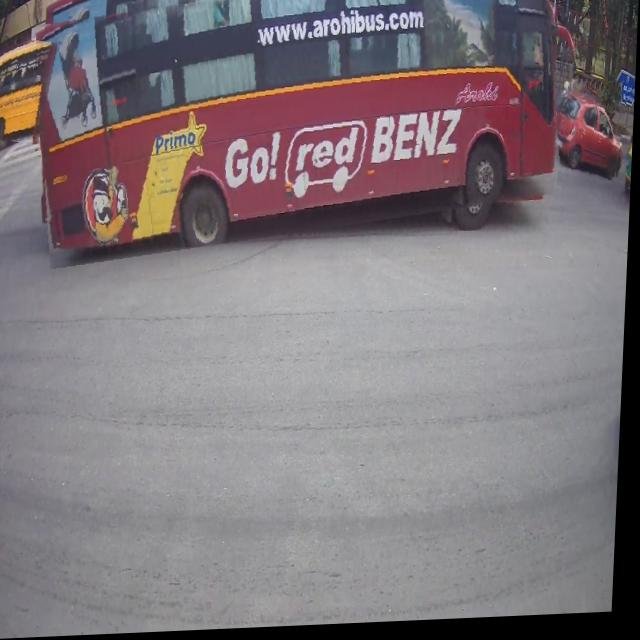Bus: (33, 0, 565, 258), (0, 38, 54, 145)
Car: (561, 83, 628, 196)
